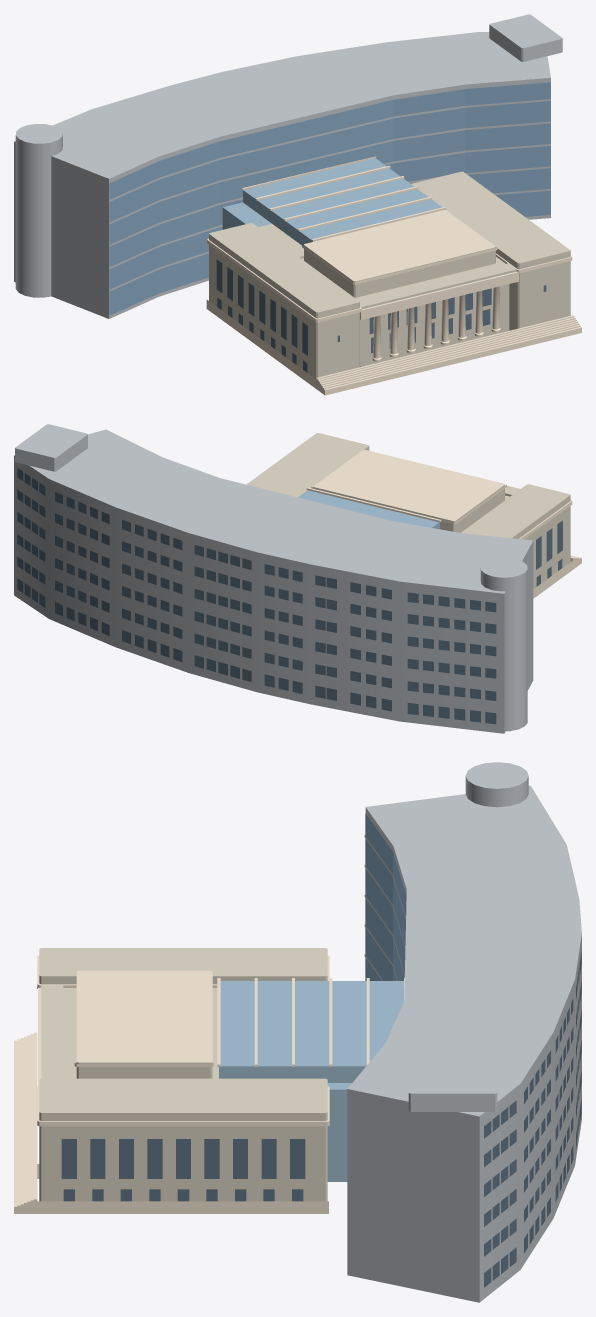
Rendered from indy-central-library.glb.
3 views of the same model, one above another, from view 1: azimuth 30°, elevation 25°; view 2: azimuth 150°, elevation 25°; view 3: azimuth 270°, elevation 25° (orthographic). The views are drawn at different scales.
Visible parts, largest first — view 1: Indianapolis Central Library; view 2: Indianapolis Central Library; view 3: Indianapolis Central Library.
Boxes of the visible parts, x1=… form: Indianapolis Central Library: x1=14, y1=14, x2=581, y2=395; Indianapolis Central Library: x1=14, y1=424, x2=581, y2=733; Indianapolis Central Library: x1=14, y1=762, x2=581, y2=1302.
Size of the model in its own units: 126 by 35.7 by 89.81.
